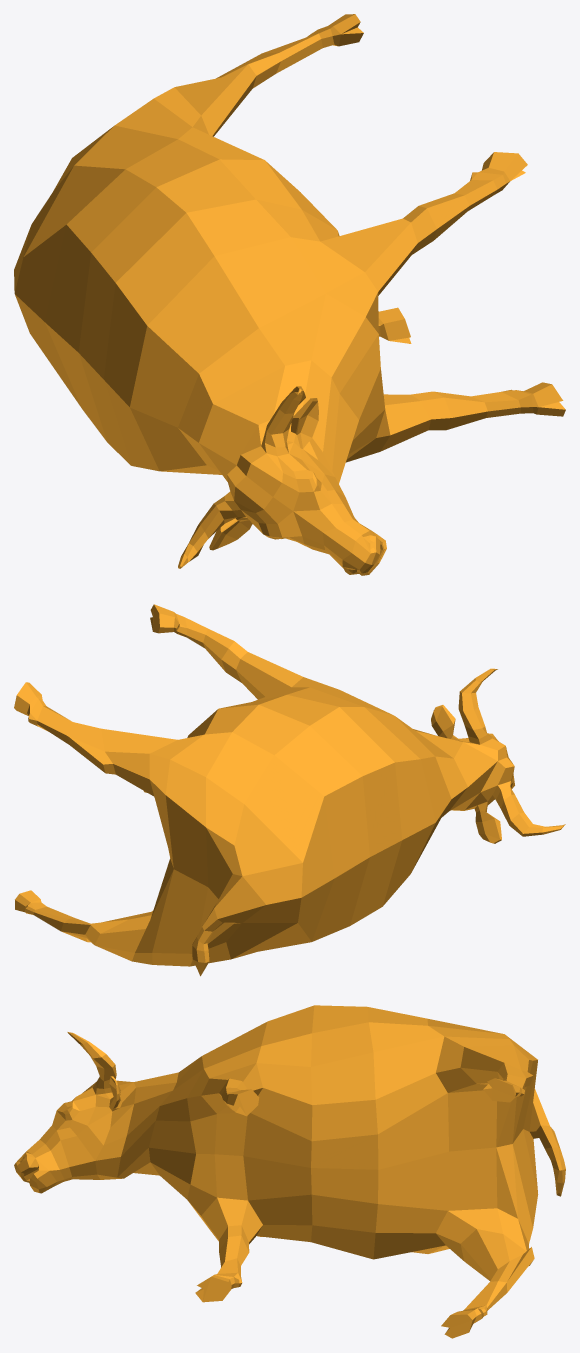
The model's file is SM_Cow_Dead_A.fbx.
3 views of the same model, one above another, from view 1: azimuth 30°, elevation 25°; view 2: azimuth 150°, elevation 25°; view 3: azimuth 270°, elevation 25° (orthographic). The views are drawn at different scales.
Visible parts, largest first — view 1: cow-dead-a; view 2: cow-dead-a; view 3: cow-dead-a.
Boxes of the visible parts, left/top/right/bottom form: cow-dead-a: left=14, top=14, right=565, bottom=575; cow-dead-a: left=14, top=604, right=565, bottom=976; cow-dead-a: left=14, top=1005, right=565, bottom=1338.
Size of the model in its own units: 1.97 by 1.31 by 2.6.
